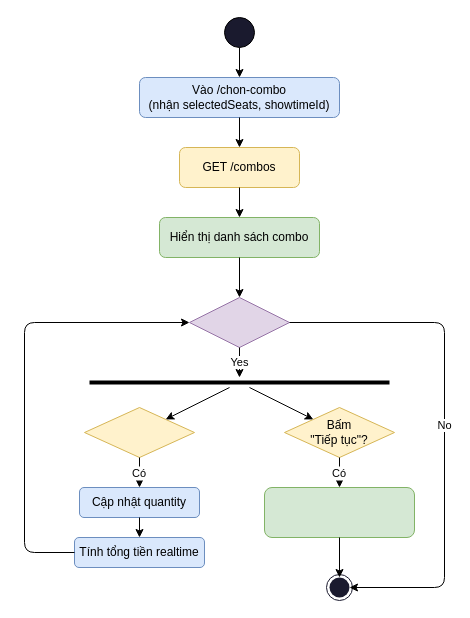
Image size: 470x618. Some labels were removed from this diagram. The shapes that lost their labels are listed below. From the top down, each one's centre as x and y in pixels, then its label:
At (239,322): "User thao tác?".
At (139,432): "Bấm + / - ?".
At (339,512): "Navigate /xac-nhan-thanh-toan (kèm seats + combos)".
